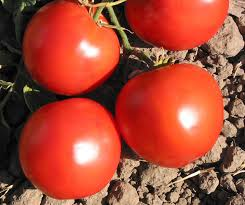tomato: (122, 69, 233, 166), (25, 93, 119, 194), (30, 6, 132, 94)
